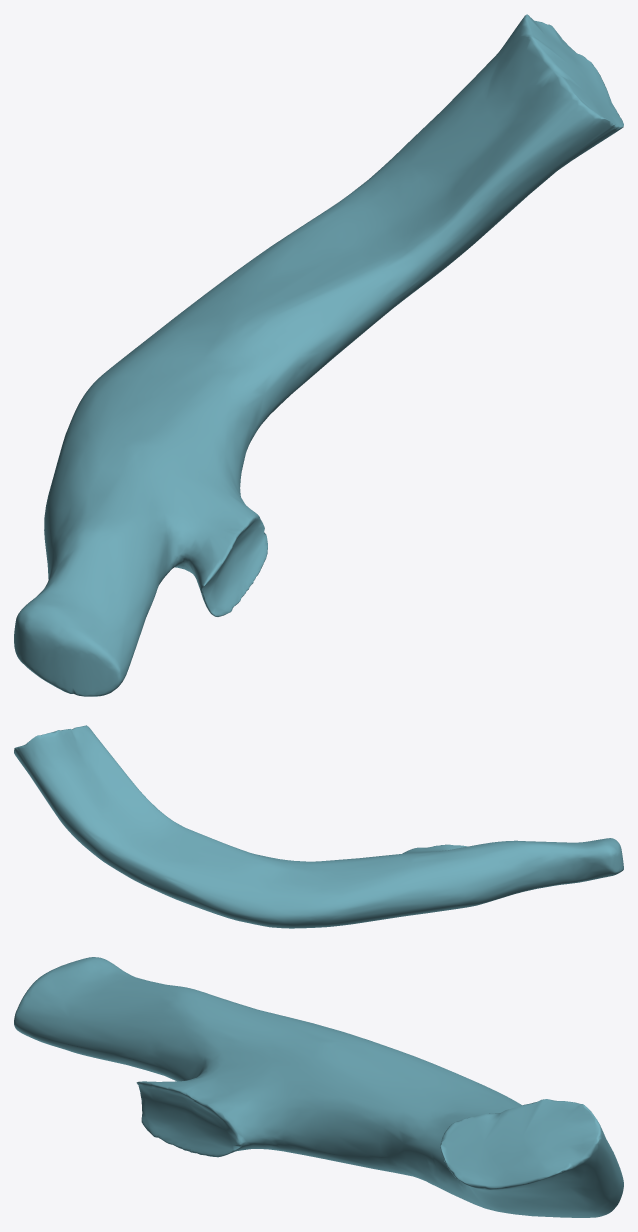
3 renders of one model, top to bottom at view 1: azimuth 30°, elevation 25°; view 2: azimuth 150°, elevation 25°; view 3: azimuth 270°, elevation 25°, orthographic. The views are drawn at different scales.
Visible parts, largest first — view 1: 左侧第七肋软骨; view 2: 左侧第七肋软骨; view 3: 左侧第七肋软骨.
Boxes of the visible parts, left/top/right/bottom form: 左侧第七肋软骨: left=14, top=14, right=623, bottom=696; 左侧第七肋软骨: left=14, top=725, right=623, bottom=928; 左侧第七肋软骨: left=14, top=957, right=623, bottom=1217.
Size of the model in its own units: 0.1592 by 0.054 by 0.1112.
